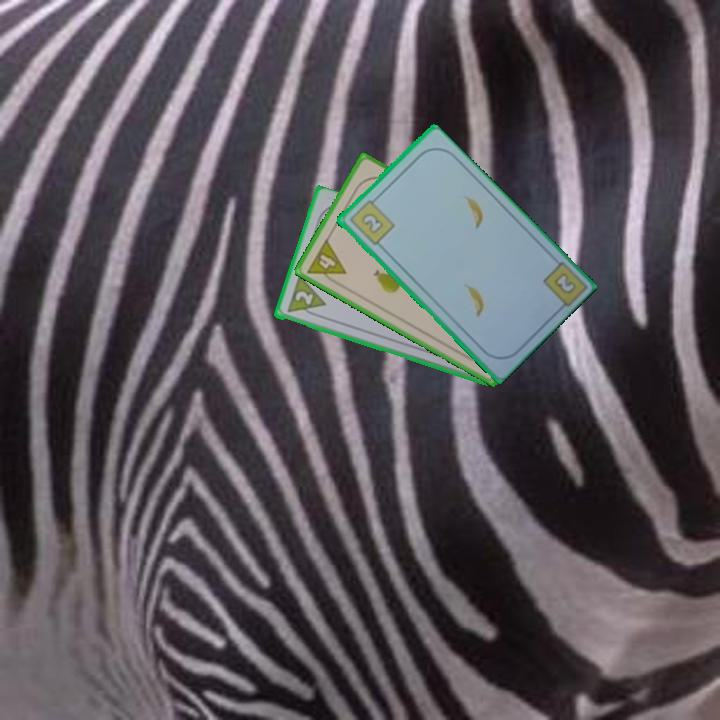2b: (345, 193, 397, 248), (550, 269, 579, 297)
2p: (283, 274, 328, 321)
4p: (303, 235, 349, 288)
